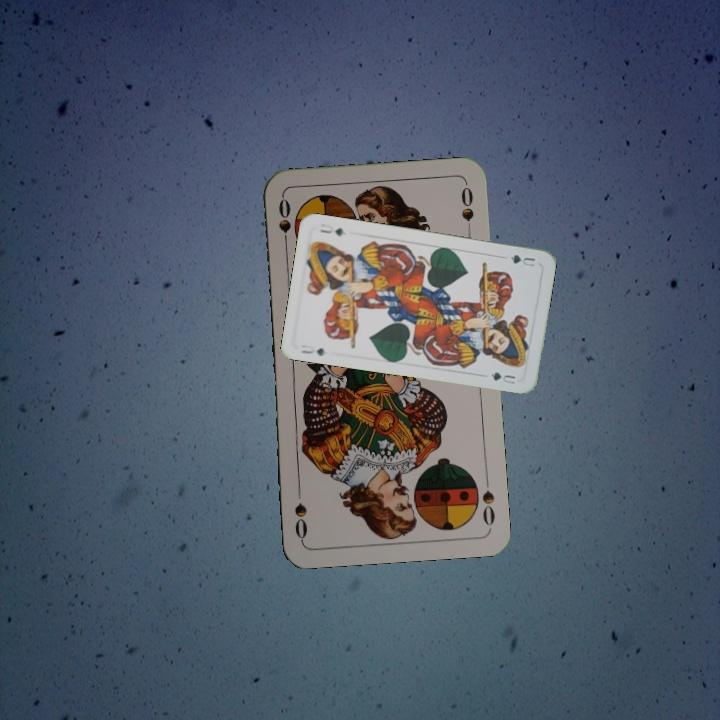GU: (506, 250, 537, 269), (297, 340, 327, 359)
SO: (478, 471, 497, 528), (275, 194, 293, 253)
